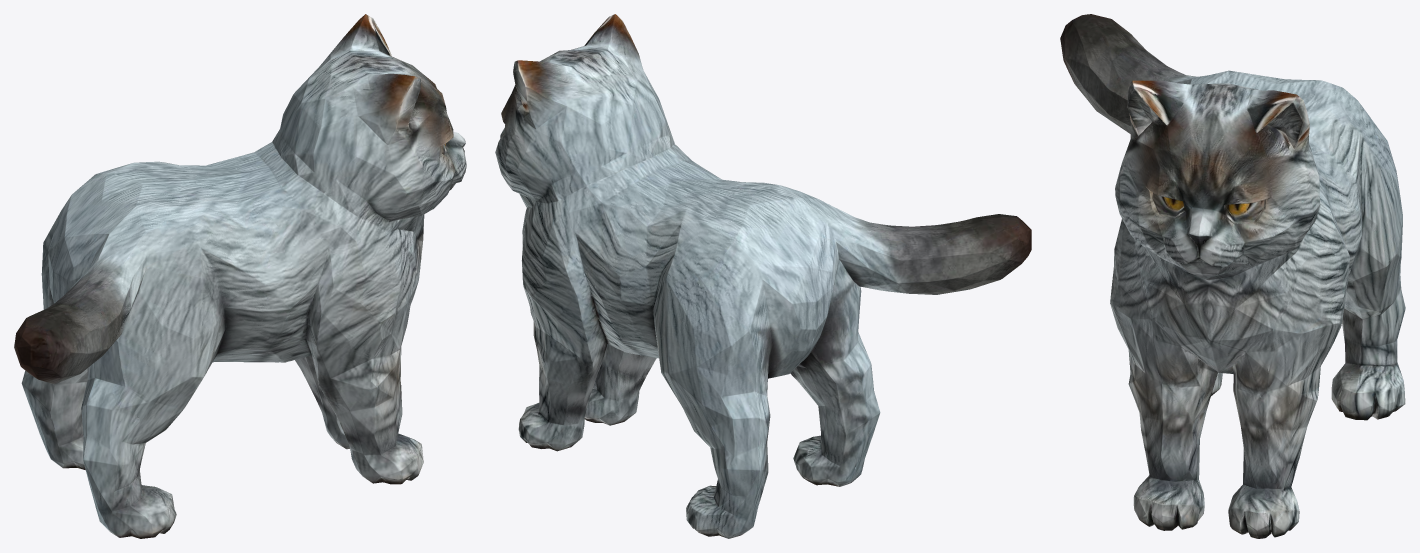
The model's file is TOMRUTGERS.glb.
3 views of the same model, side by side, from view 1: azimuth 30°, elevation 25°; view 2: azimuth 150°, elevation 25°; view 3: azimuth 270°, elevation 25° (orthographic). The views are drawn at different scales.
Visible parts, largest first — view 1: fit; view 2: fit; view 3: fit.
Boxes of the visible parts, x1=… form: fit: x1=14, y1=14, x2=466, y2=538; fit: x1=495, y1=14, x2=1031, y2=538; fit: x1=1060, y1=14, x2=1405, y2=538.
Size of the model in its own units: 1.27 by 1 by 0.7081.
1 material, 1 textured.
